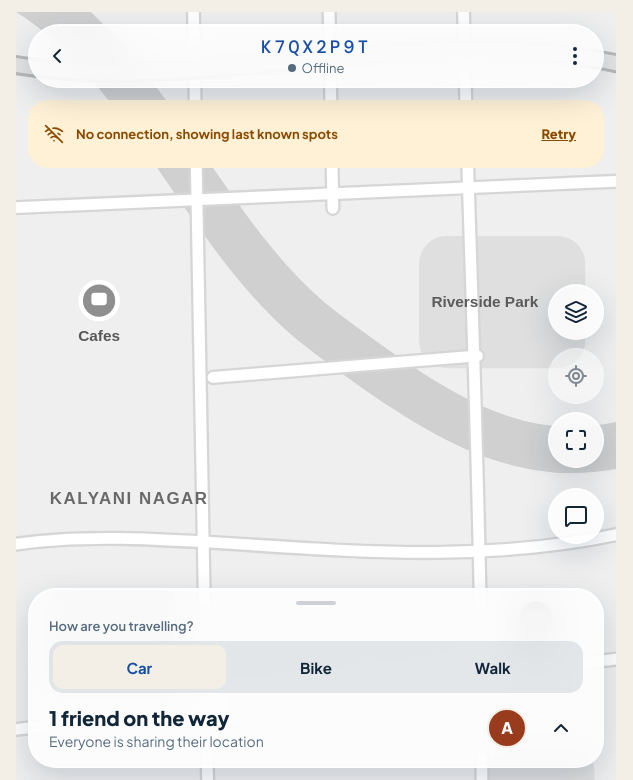
Scenario: Live map › shows the offline banner when the connection stays down, and Retry reconnects
Expected: the text "K7QX2P9T" is shown, [261,35,371,59]
Expected: the text "No connection, showing last known spots" is shown, [76,126,338,142]
Click the button "Retry": (559, 134) [530,112,588,156]
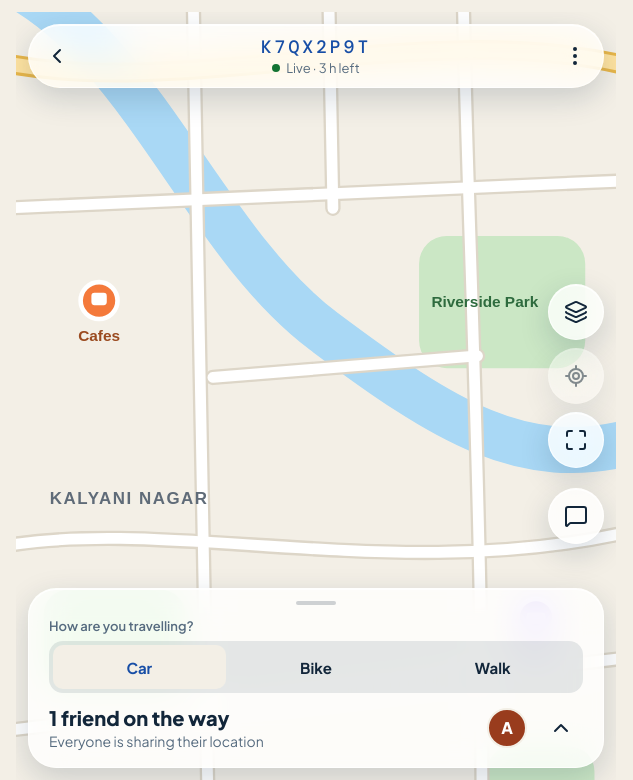
Expected: the text "No connection, showing last known spots" is gone
